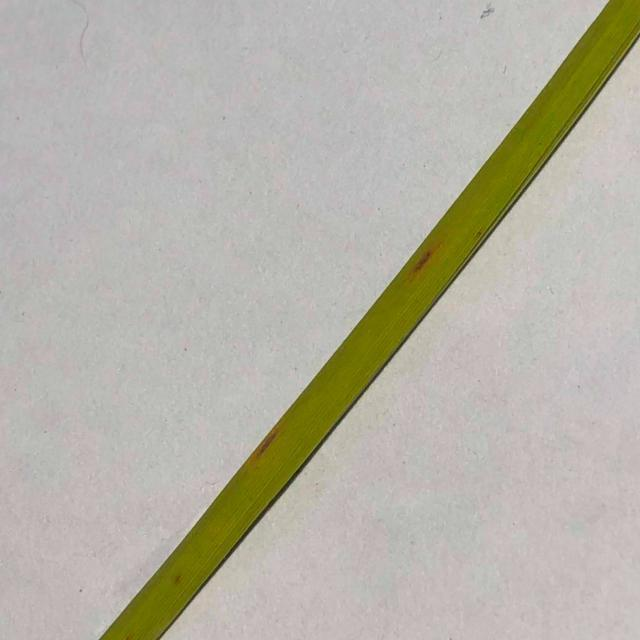brownspots: (398, 240, 444, 294), (254, 420, 283, 462)
